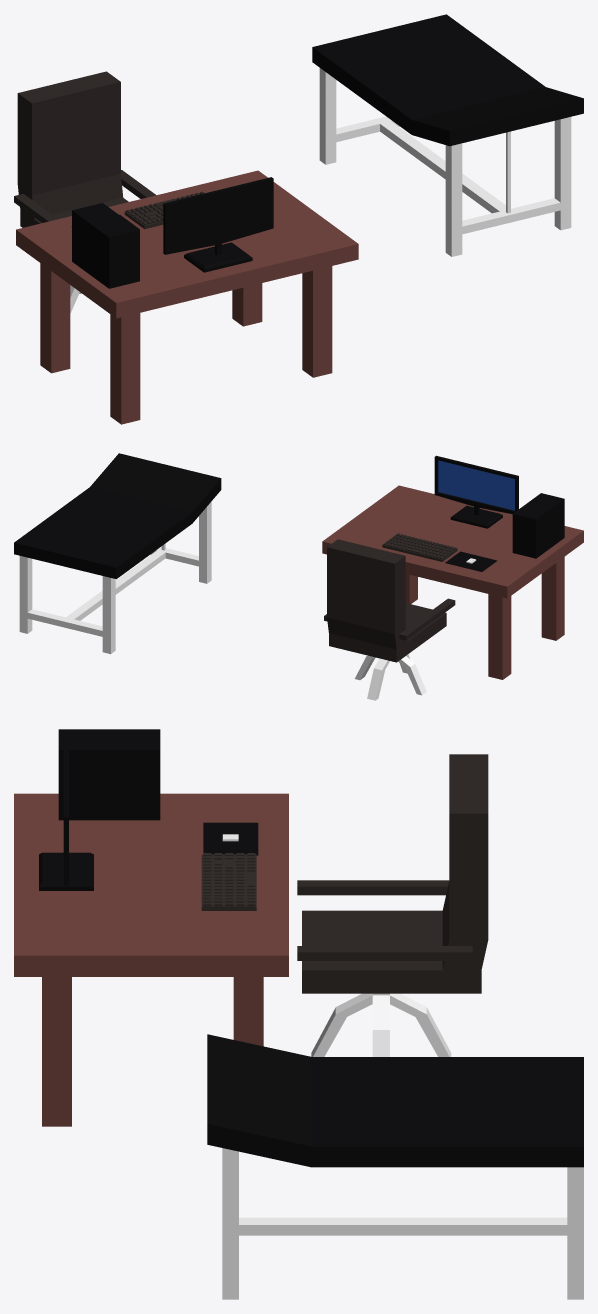
The model's file is prueba4.fbx.
The picture shows the model from 3 angles, top to bottom: view 1: azimuth 30°, elevation 25°; view 2: azimuth 150°, elevation 25°; view 3: azimuth 270°, elevation 25°; orthographic projection. The views are drawn at different scales.
Visible parts, largest first — view 1: Cube.002, Cube.003, Cube.001; view 2: Cube.002, Cube.003, Cube.001; view 3: Cube.002, Cube.003, Cube.001.
Boxes of the visible parts, box(x1,y1,x2,y2) form: Cube.002: box(16, 170, 358, 424); Cube.003: box(312, 14, 583, 256); Cube.001: box(14, 71, 156, 313); Cube.002: box(322, 455, 583, 679); Cube.003: box(14, 453, 221, 654); Cube.001: box(324, 539, 455, 700); Cube.002: box(14, 729, 288, 1126); Cube.003: box(207, 1034, 583, 1299); Cube.001: box(297, 754, 488, 1056).
Size of what is drawn, in the model's own units: 898 by 323 by 601.
3 materials, 3 textured.
